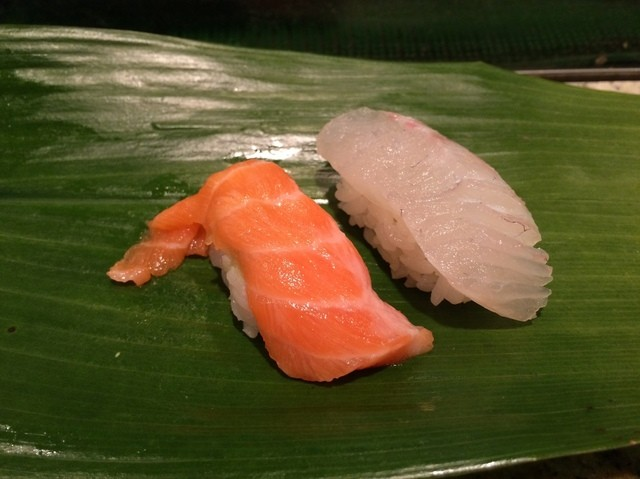salmon: (115, 155, 439, 389)
